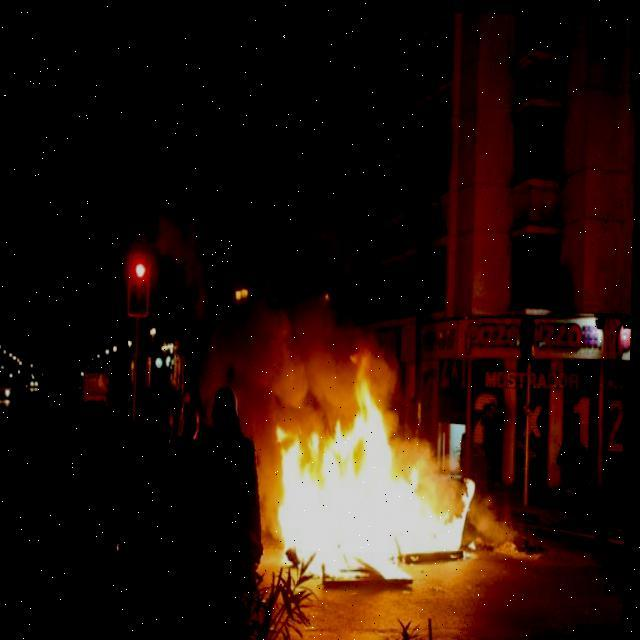Fire: (270, 367, 481, 570)
